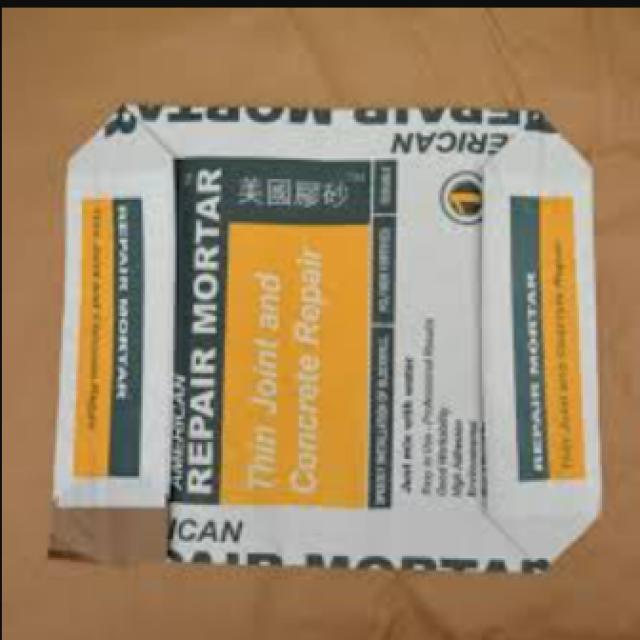KantongSemen: (49, 99, 602, 571)
